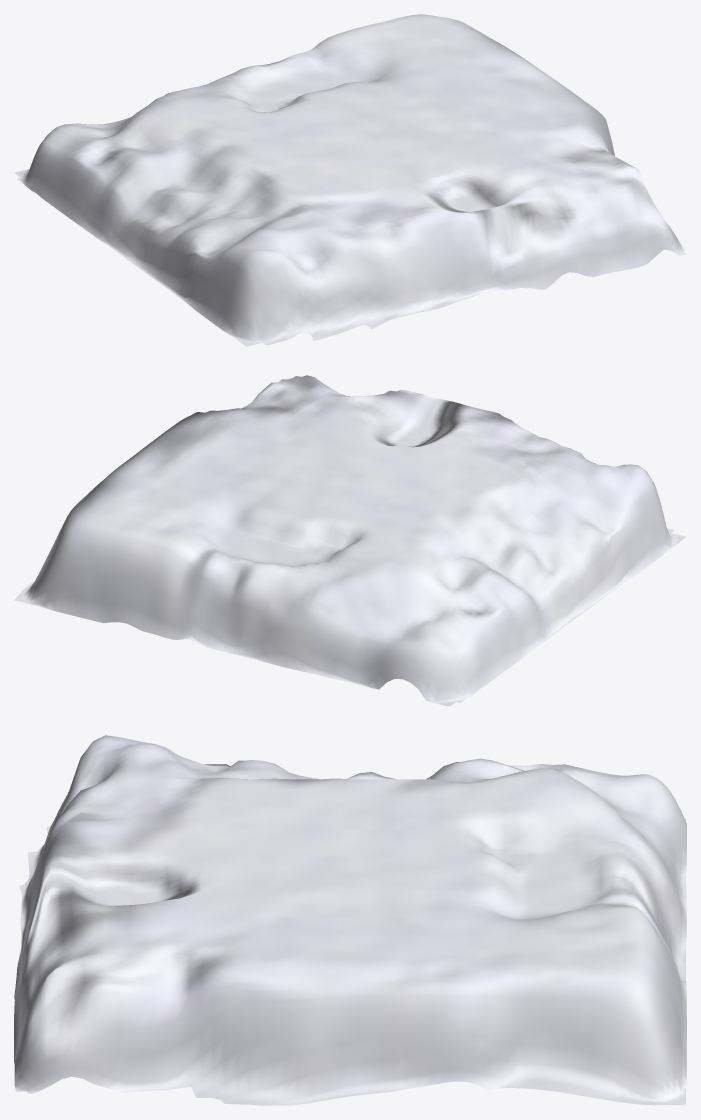
The model's file is snow.dae.
3 views of the same model, one above another, from view 1: azimuth 30°, elevation 25°; view 2: azimuth 150°, elevation 25°; view 3: azimuth 270°, elevation 25° (orthographic). The views are drawn at different scales.
Visible parts, largest first — view 1: snow2_snow; view 2: snow2_snow; view 3: snow2_snow.
Boxes of the visible parts, x1,y1,x2,y2 form: snow2_snow: (14,14,686,346); snow2_snow: (14,375,686,706); snow2_snow: (14,735,686,1105).
Size of the model in its own units: 60.82 by 59.2 by 10.55.
Materials: 1 (1 with a texture image).
